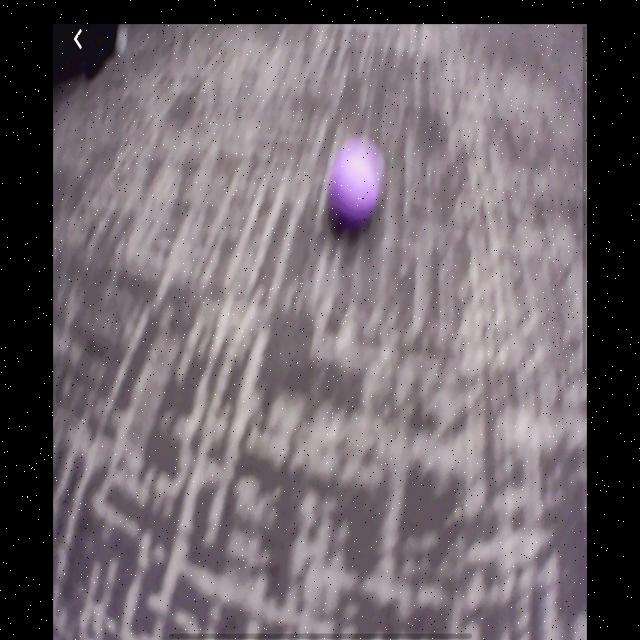ball: (332, 138, 386, 229)
